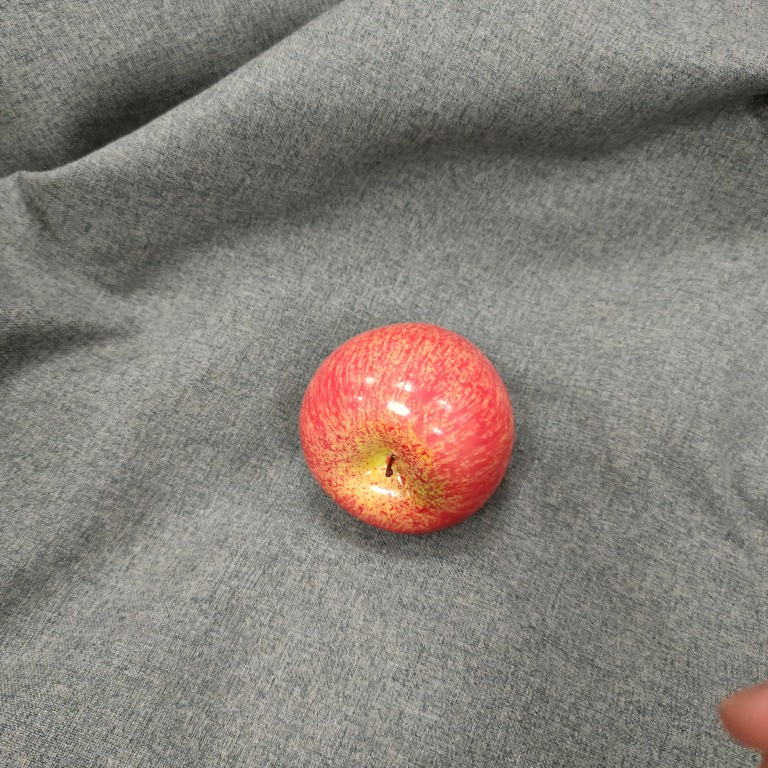fruit_apple: (291, 313, 519, 541)
